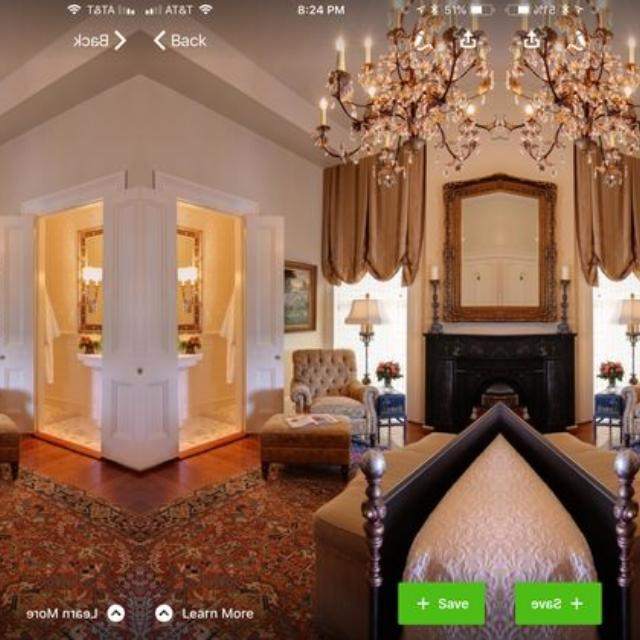bed: (362, 405, 499, 640), (500, 405, 637, 640)
chair: (290, 349, 378, 444)
curtain: (323, 149, 423, 283), (576, 149, 640, 281)
lamp: (344, 294, 380, 384), (619, 294, 640, 384)
light: (313, 0, 498, 187), (501, 0, 640, 187)
rug: (141, 466, 342, 640), (0, 466, 137, 640)
